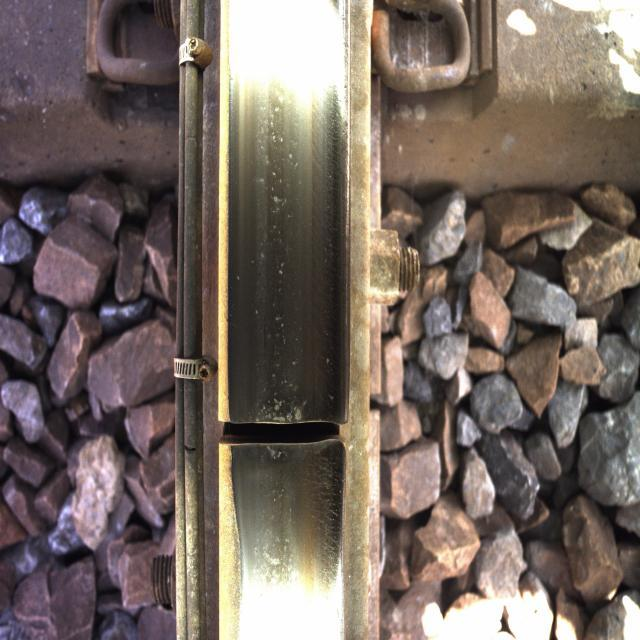spalling: (196, 362, 372, 502)
